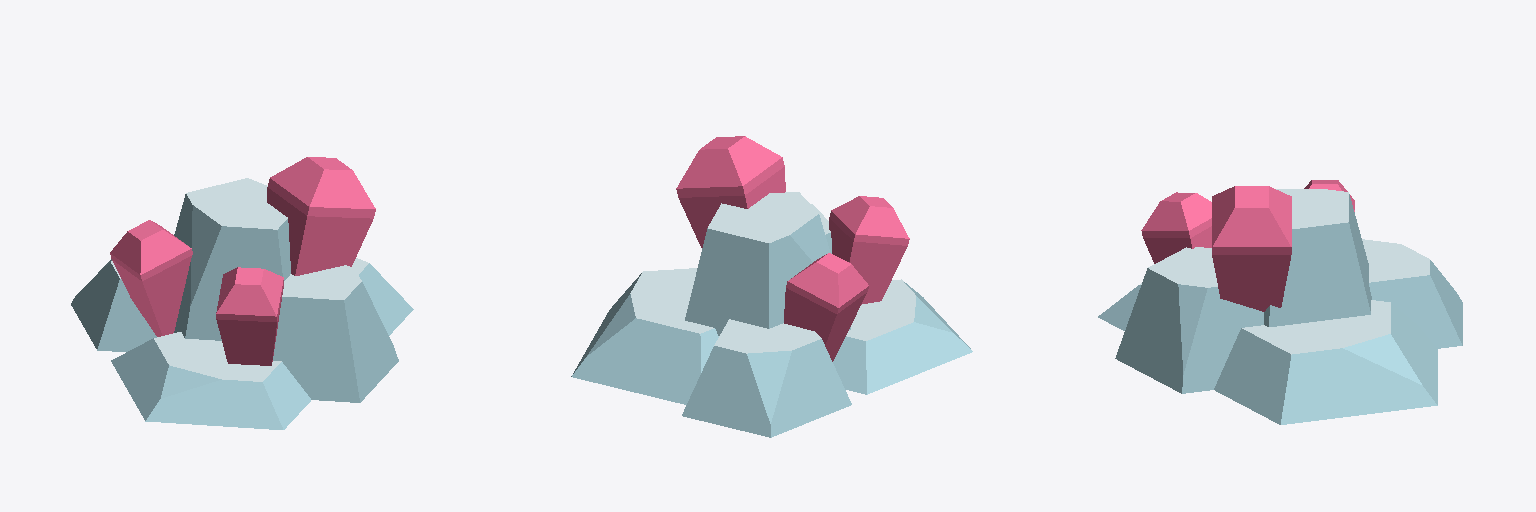
Rendered from snow_detail_crystalLarge.obj.
3 views of the same model, side by side, from view 1: azimuth 30°, elevation 25°; view 2: azimuth 150°, elevation 25°; view 3: azimuth 270°, elevation 25° (orthographic).
Visible parts, largest first — view 1: rocks, crystal; view 2: rocks, crystal; view 3: rocks, crystal.
Part boxes in pixels (x1,y1,x2,y2): rocks: (71, 178, 413, 429); crystal: (110, 157, 375, 365); rocks: (571, 192, 972, 437); crystal: (676, 136, 909, 361); rocks: (1098, 189, 1462, 424); crystal: (1141, 180, 1354, 311).
Bounding box in the file's own units: 1 × 0.5565 × 1.